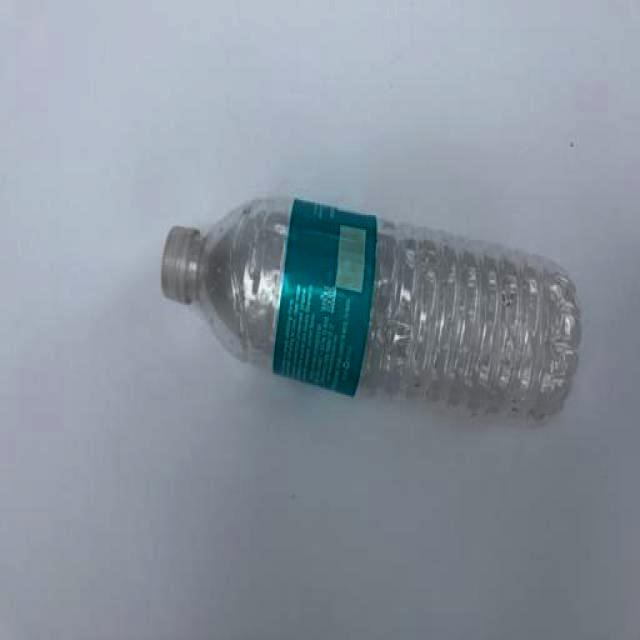bottle: (162, 196, 582, 430)
